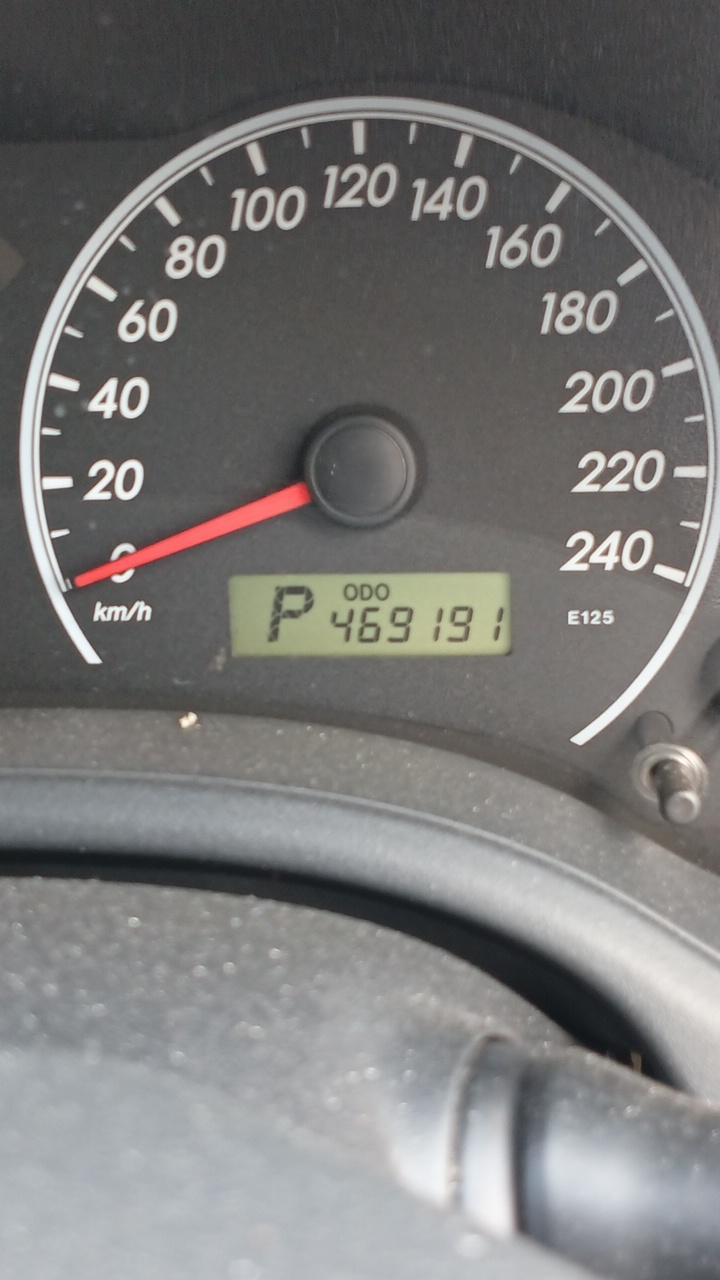1: (492, 606, 505, 642), (432, 606, 444, 642)
4: (330, 607, 354, 643)
6: (357, 606, 382, 643)
9: (446, 606, 474, 644), (387, 606, 414, 644)
X: (266, 585, 314, 645), (342, 583, 358, 602), (375, 583, 390, 601), (360, 583, 373, 600)
odometer: (224, 571, 514, 661)
